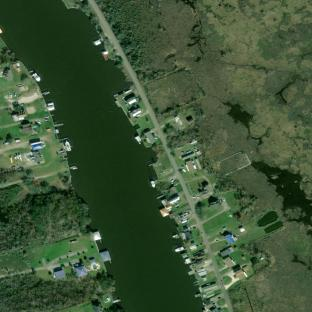Floresta: (0, 186, 90, 253), (0, 271, 114, 312)
